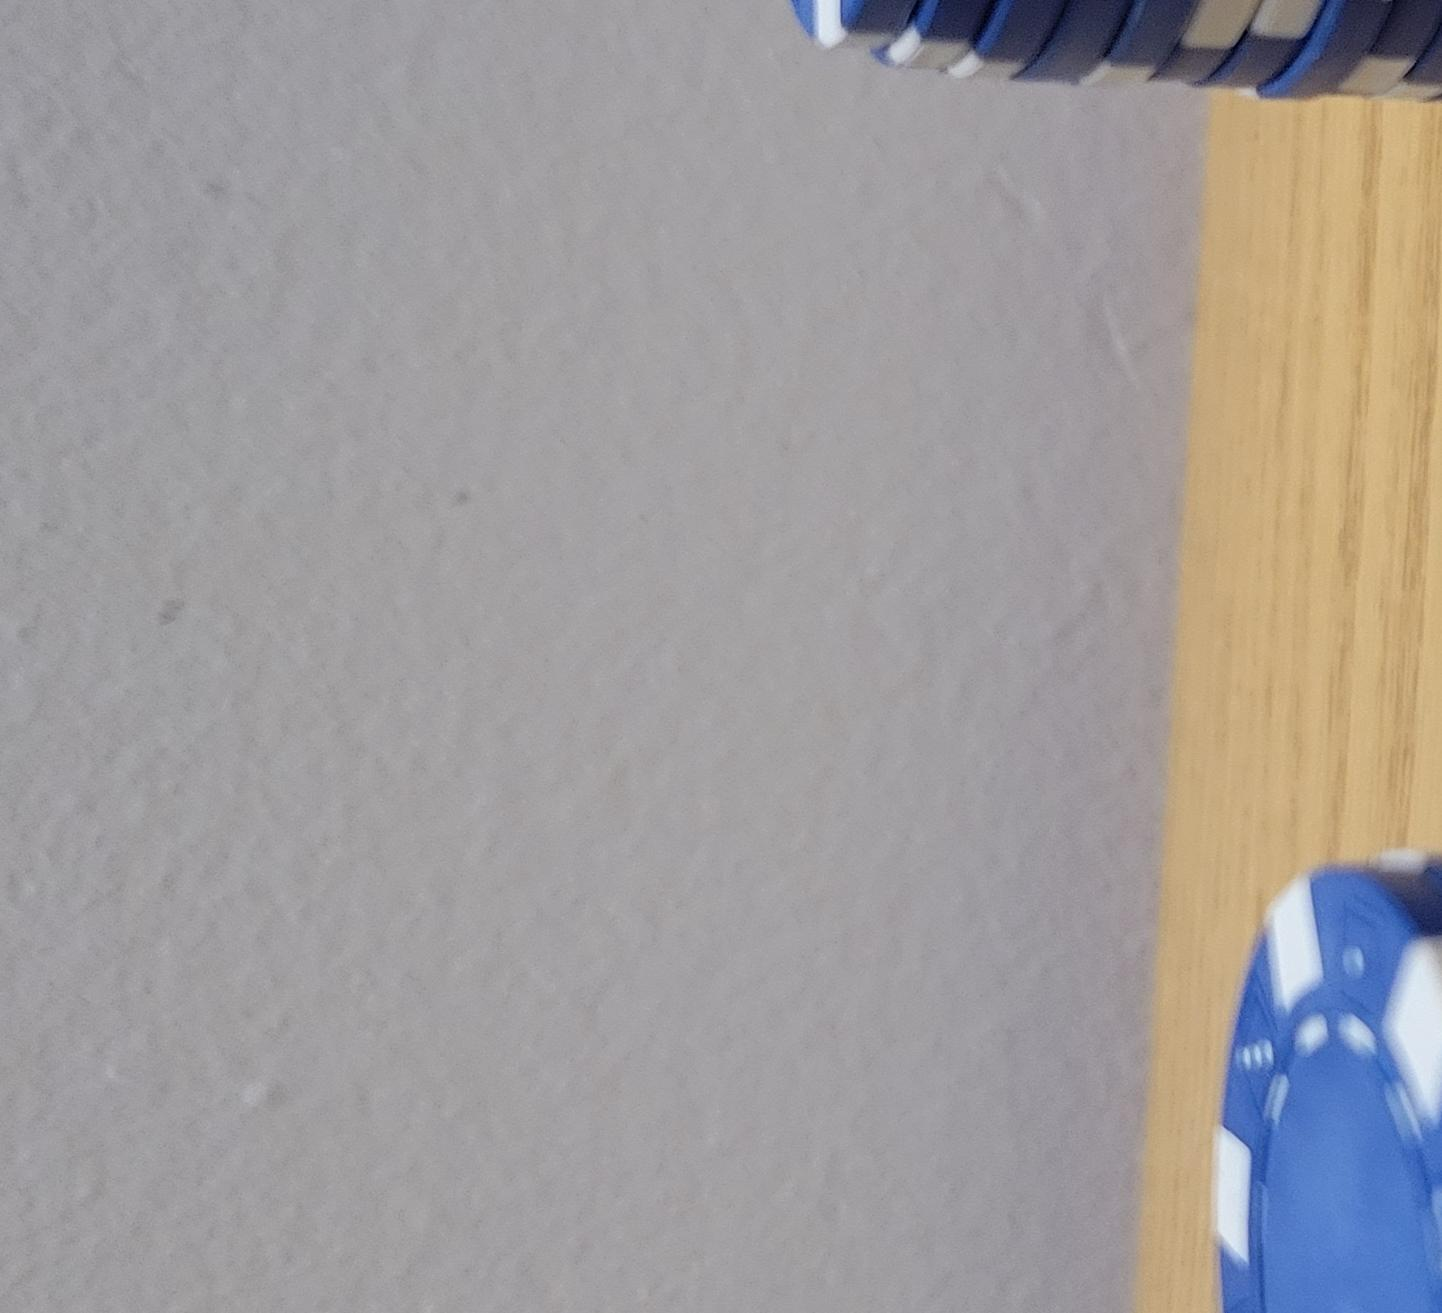Chip: (1, 342, 1022, 1313)
